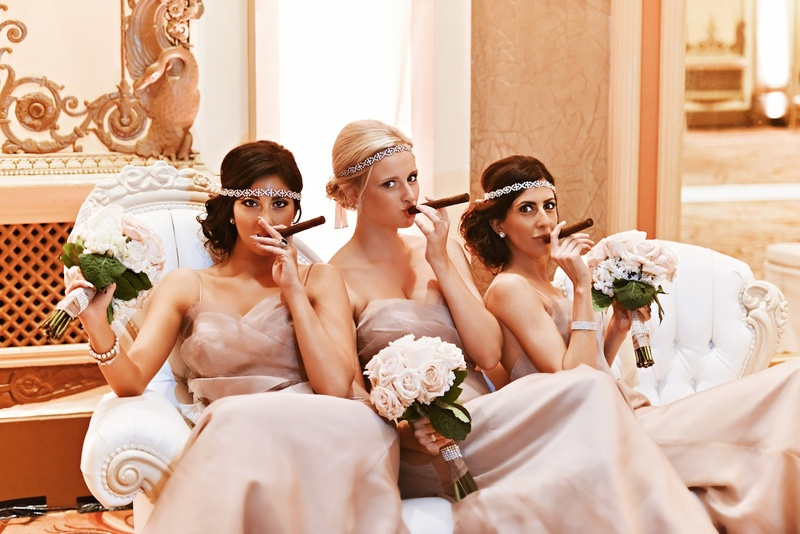cigarette: (405, 191, 475, 216), (268, 217, 333, 237), (548, 217, 598, 241)
